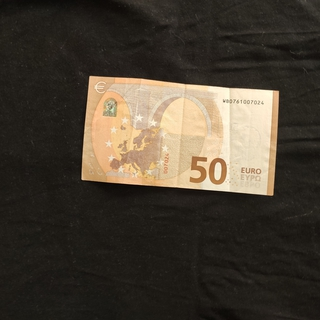50EUROBack: (80, 74, 279, 196)
